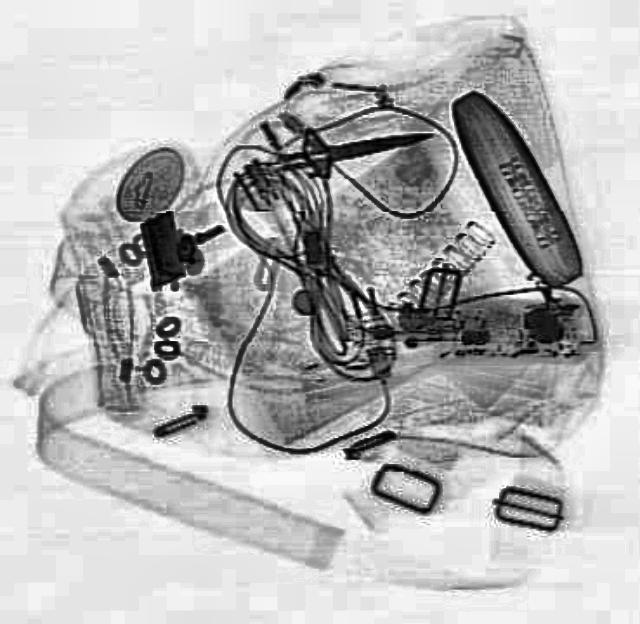Knife: (260, 103, 440, 186)
